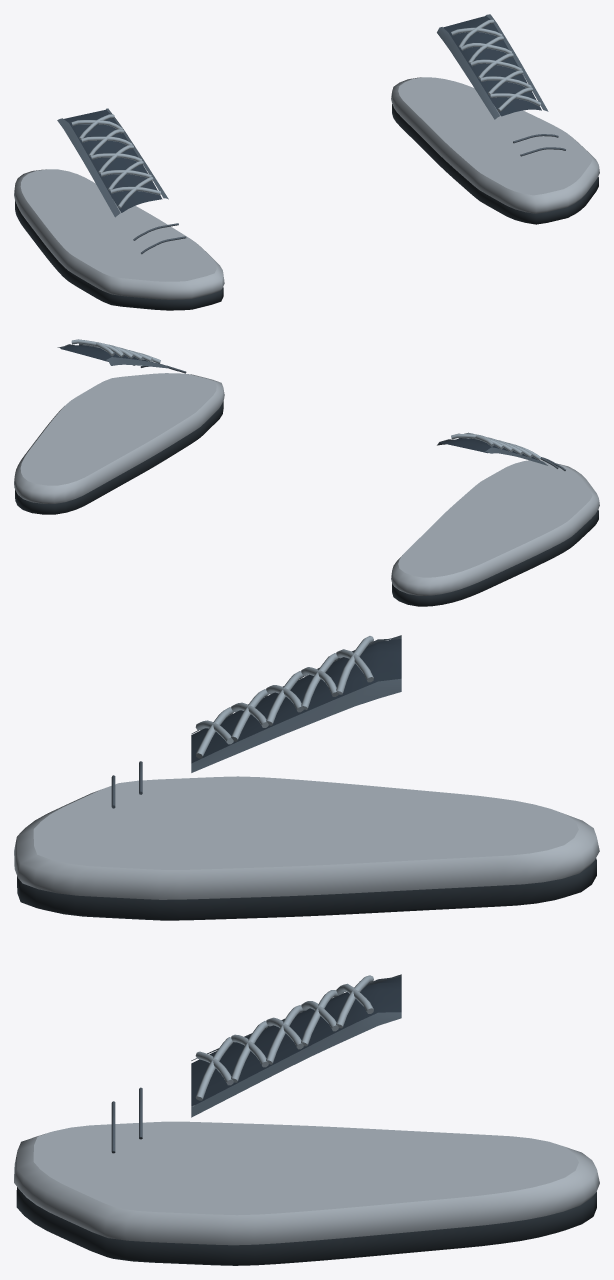
The model's file is bodyforge-trainers.glb.
The picture shows the model from 3 angles, top to bottom: view 1: azimuth 30°, elevation 25°; view 2: azimuth 150°, elevation 25°; view 3: azimuth 270°, elevation 25°; orthographic projection. The views are drawn at different scales.
Visible parts, largest first — view 1: BF_Trainer_Midsole, BF_Trainer_Tongue, BF_Trainer_Outsole, BF_Trainer_Laces, BF_Trainer_Eyestay, BF_Trainer_Stitch; view 2: BF_Trainer_Midsole, BF_Trainer_Outsole, BF_Trainer_Laces, BF_Trainer_Tongue, BF_Trainer_Eyestay; view 3: BF_Trainer_Midsole, BF_Trainer_Outsole, BF_Trainer_Tongue, BF_Trainer_Laces, BF_Trainer_Eyestay.
Boxes of the visible parts, box(x1,y1,x2,y2) form: BF_Trainer_Midsole: box(14, 77, 599, 299); BF_Trainer_Tongue: box(64, 16, 541, 212); BF_Trainer_Outsole: box(15, 104, 598, 310); BF_Trainer_Laces: box(71, 19, 540, 208); BF_Trainer_Eyestay: box(57, 14, 548, 217); BF_Trainer_Stitch: box(133, 134, 565, 254); BF_Trainer_Midsole: box(14, 373, 599, 595); BF_Trainer_Outsole: box(15, 401, 598, 606); BF_Trainer_Laces: box(71, 339, 540, 460); BF_Trainer_Tongue: box(60, 345, 540, 460); BF_Trainer_Eyestay: box(57, 344, 547, 465); BF_Trainer_Midsole: box(14, 776, 599, 1245); BF_Trainer_Outsole: box(16, 858, 596, 1265); BF_Trainer_Tongue: box(191, 639, 401, 1106); BF_Trainer_Laces: box(195, 636, 373, 1100); BF_Trainer_Eyestay: box(191, 635, 401, 1117).
Size of the model in its own units: 0.5425 by 0.1281 by 0.3011.
